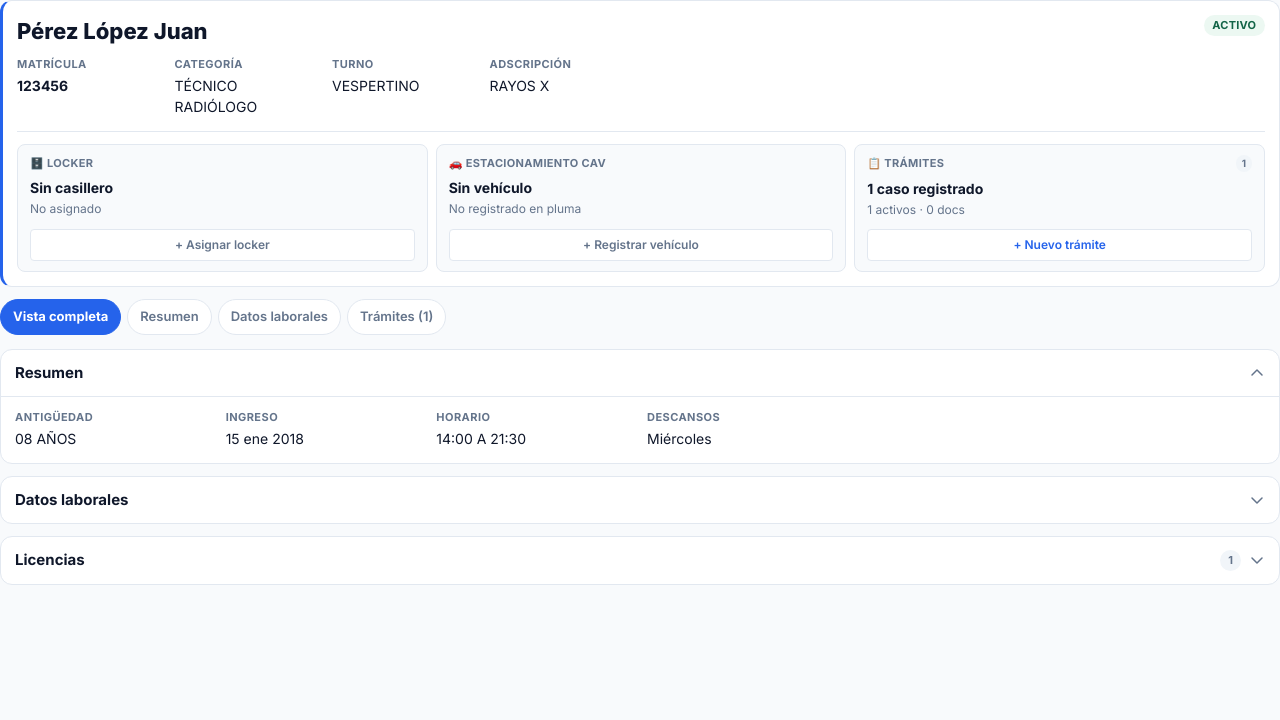
Test: Expediente del trabajador · secciones progresivas › muestra licencias con detalle y folio al expandir
Expected: the text "Asunto personal" is not shown
Click the button "Licencias 1" at coordinates (50, 560), box [1, 537, 1279, 584]
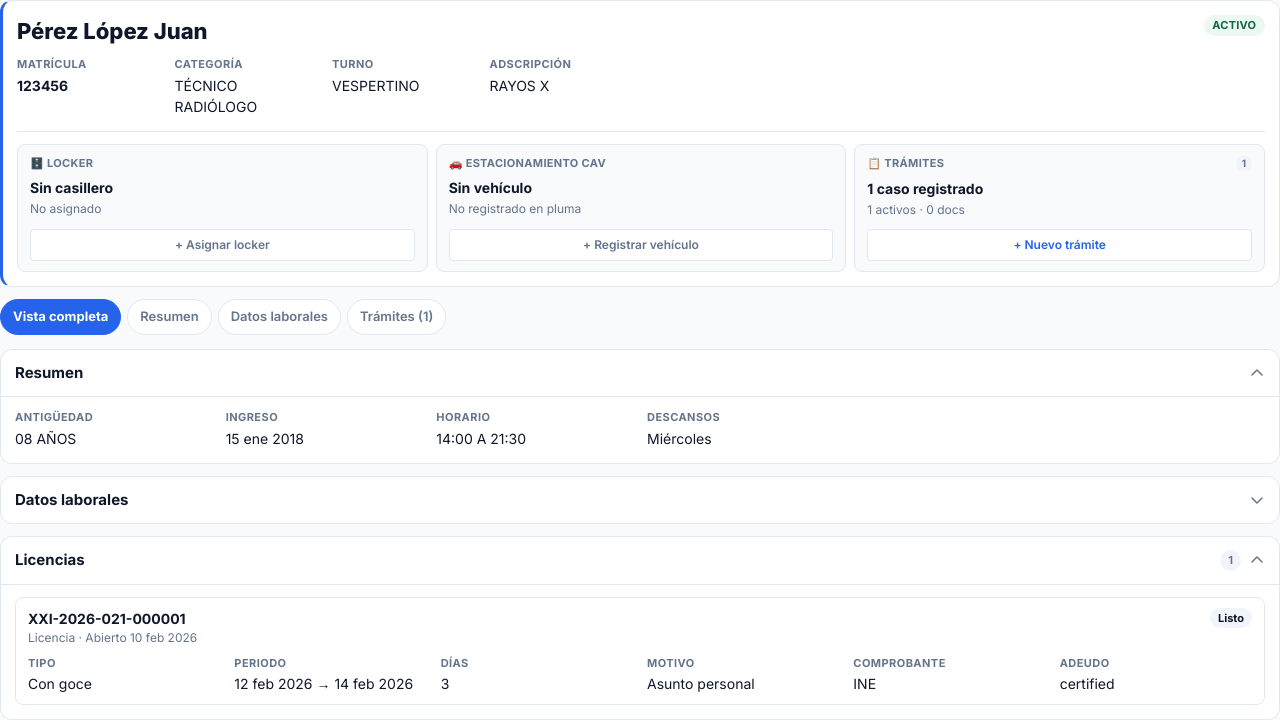
Now the button "Licencias 1" is expanded, box [1, 537, 1279, 584]
Now the text "XXI-2026-021-000001" is shown, box [28, 608, 197, 628]
Now the text "Asunto personal" is shown, box [647, 675, 755, 692]
